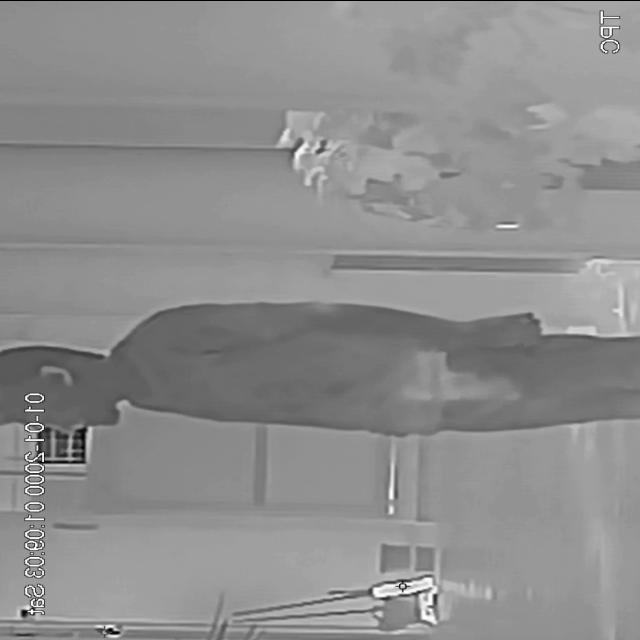Weapon: (390, 336, 528, 421)
